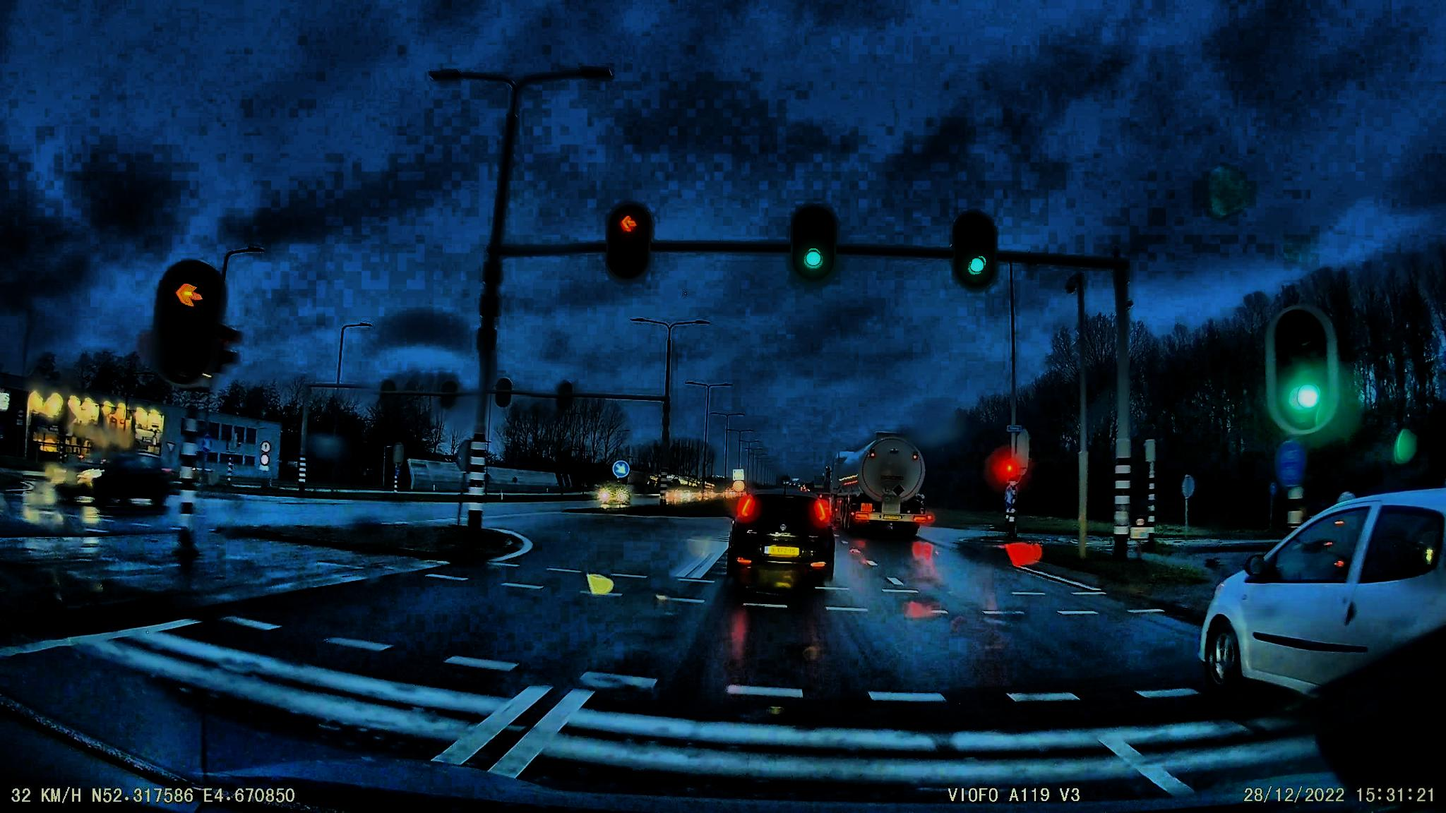Roads: (0, 500, 1340, 813)
